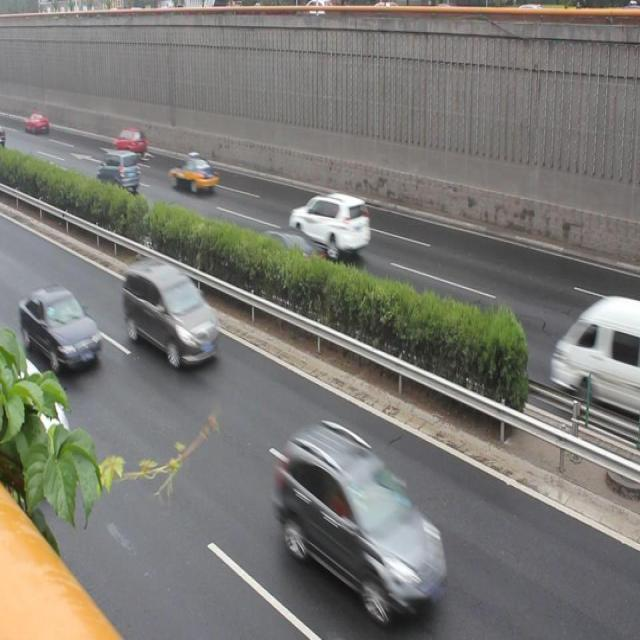car: (274, 420, 445, 617), (20, 283, 105, 371), (289, 190, 371, 257), (251, 220, 327, 288), (171, 150, 221, 200)
truck: (122, 258, 226, 373), (545, 296, 640, 417)
